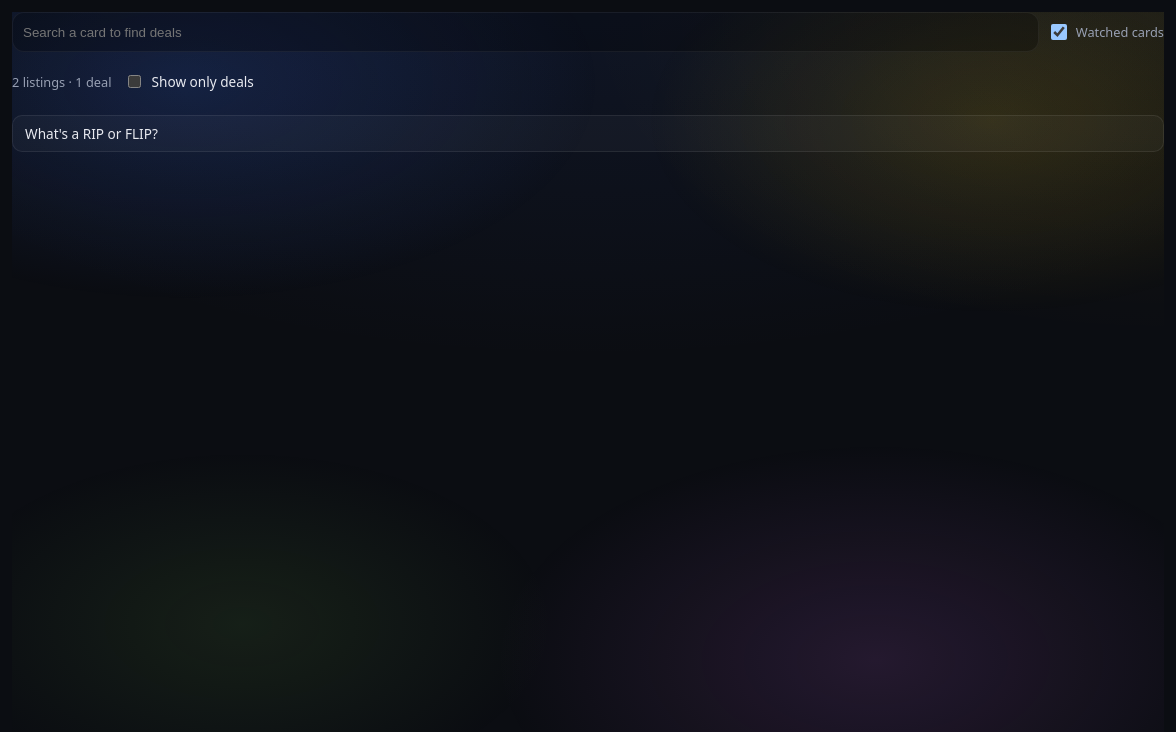
Test: Deals › 'Show only deals' collapses the feed to the RIP/FLIP cards, hiding non-deal context cards
The image size is (1176, 732).
Click the checkbox labelled "Show only deals" at (134, 82), box x1=128 y1=75 x2=141 y2=88
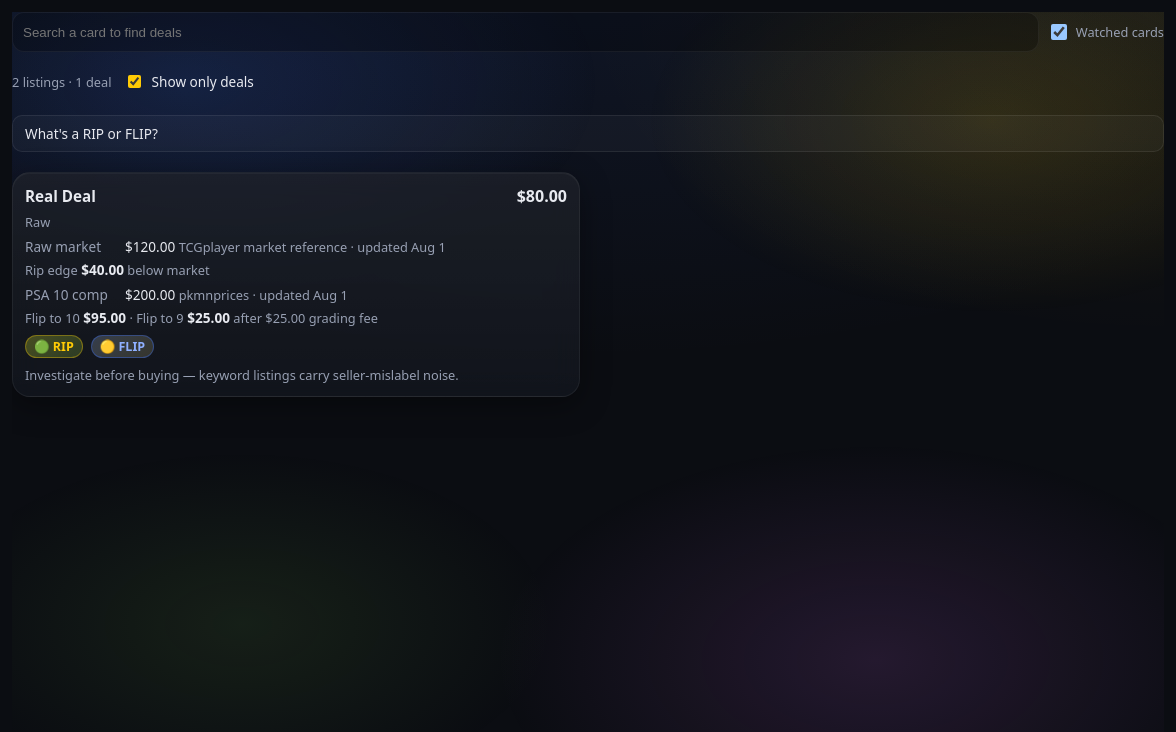
Now the number of list items with class "deal-card" is 1, box x1=12 y1=172 x2=580 y2=397
Now the text "Real Deal" is shown, box x1=25 y1=186 x2=96 y2=206
